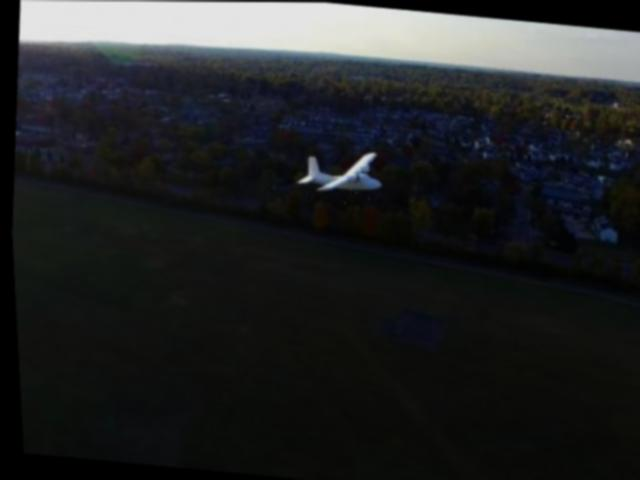uav: (293, 141, 386, 200)
